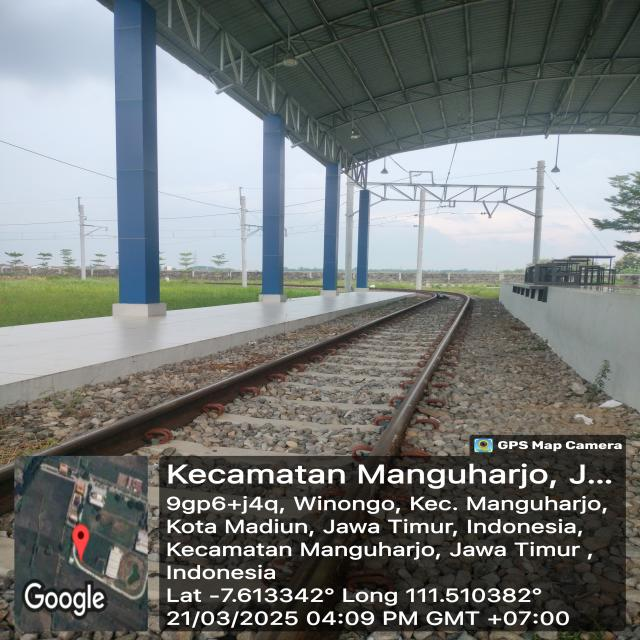rail-detection: (40, 293, 441, 456), (371, 294, 471, 455)
